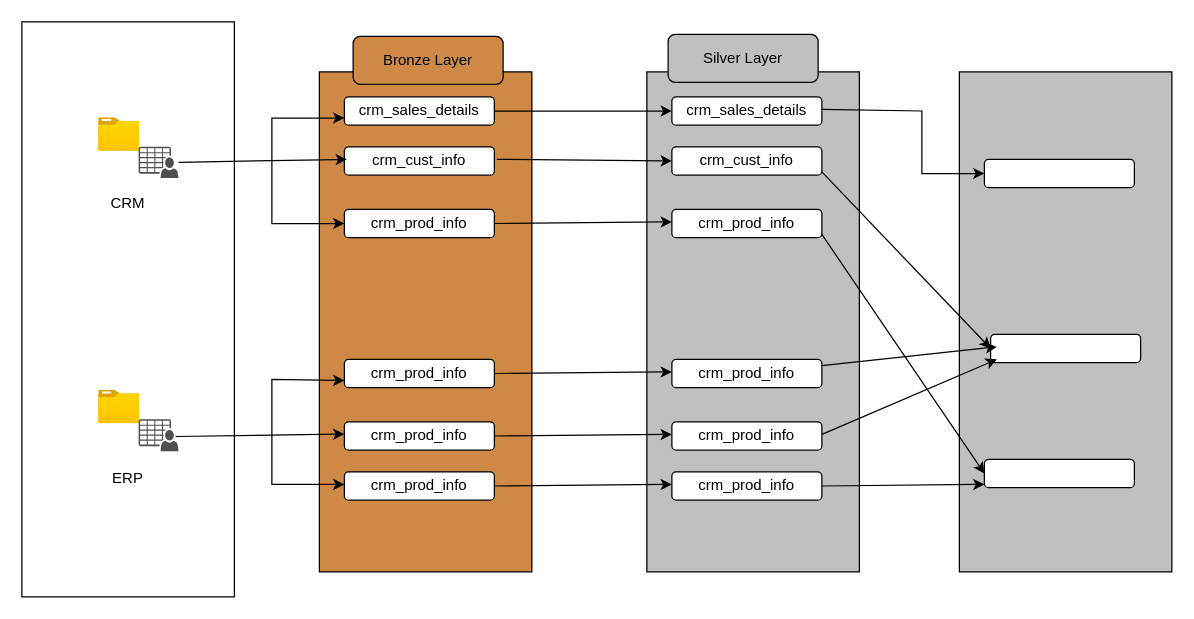
Image size: 1194x619. Some labels were removed from this diagram. The box of each missing label's shape, as (x1, y1, x2, y2) in pixels:
dim_customers: (989, 333, 1141, 363)
dim_products: (983, 458, 1134, 488)
fact_sales: (983, 158, 1134, 188)
